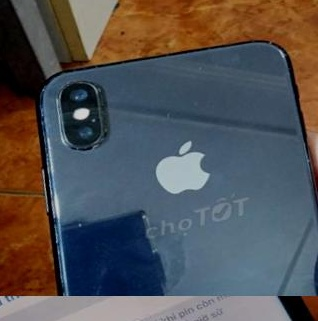scratch: (18, 87, 68, 208), (138, 99, 192, 134), (52, 210, 101, 246), (255, 33, 292, 69), (182, 53, 209, 79), (88, 79, 111, 103), (128, 205, 151, 227), (146, 243, 169, 262), (56, 275, 74, 296), (301, 155, 316, 170), (97, 126, 112, 138)
